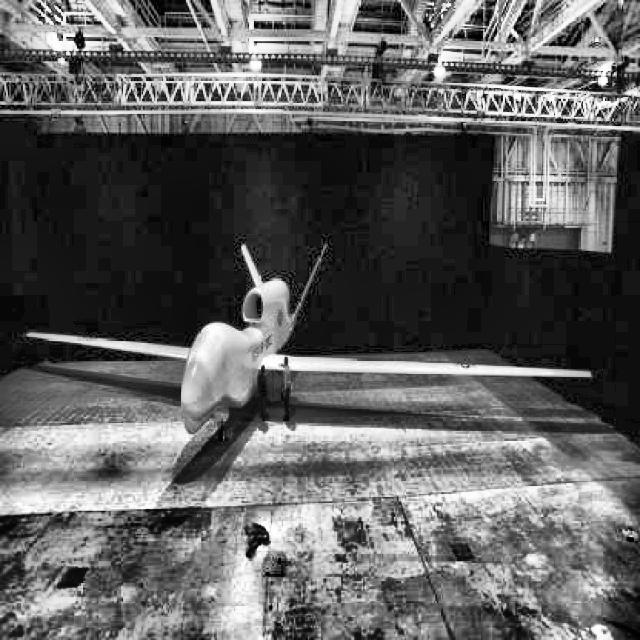RQ4: (23, 243, 592, 440)
